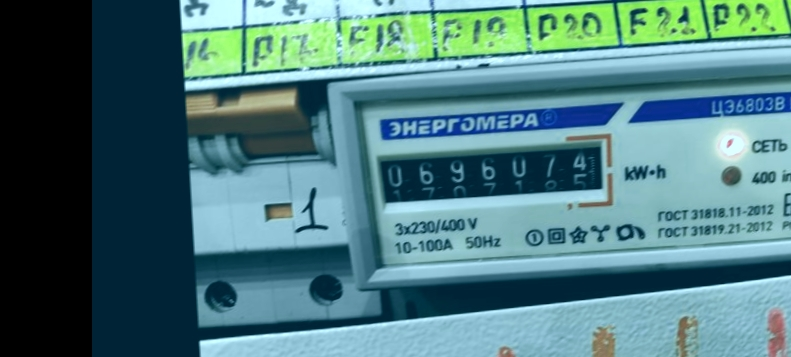0: (382, 161, 402, 187), (508, 151, 526, 178)
4: (569, 146, 587, 171)
5: (571, 170, 587, 189)
6: (415, 157, 435, 185), (476, 155, 495, 180)
7: (537, 150, 557, 177)
9: (445, 156, 465, 182)
screen: (362, 127, 619, 222)
